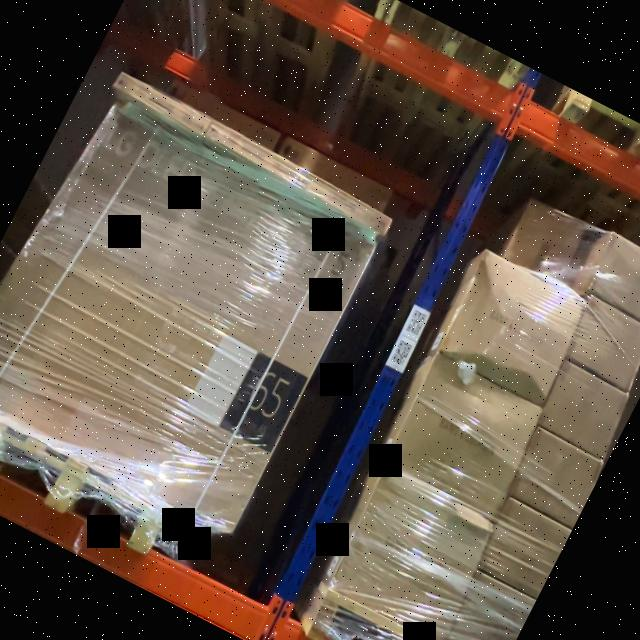box: (0, 106, 377, 530), (329, 473, 493, 638), (387, 362, 541, 514), (440, 258, 587, 402), (204, 122, 307, 187), (112, 72, 212, 136), (301, 176, 393, 236)
